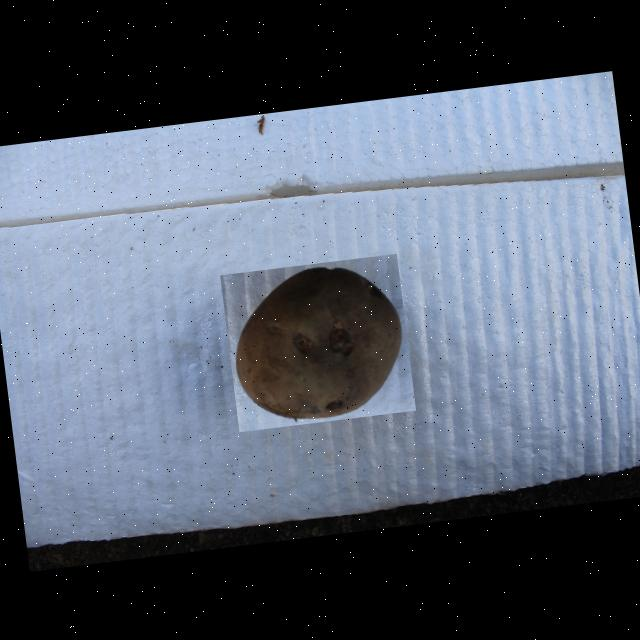Diseased-fungal potato: (218, 252, 414, 431)
